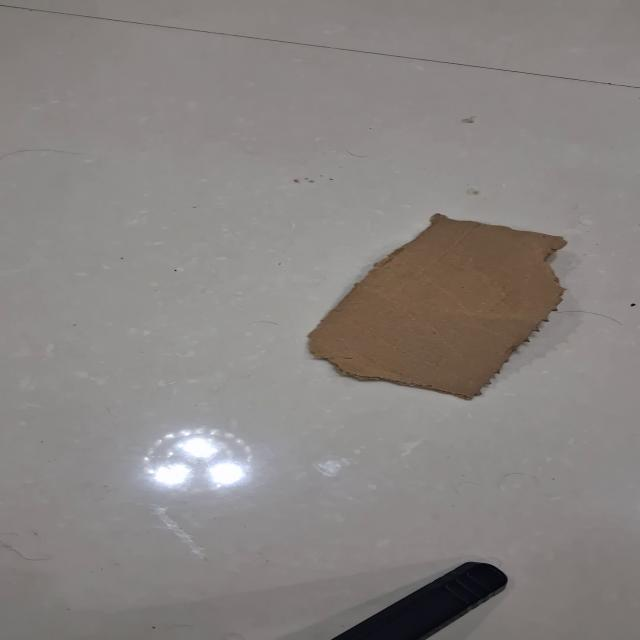paper: (2, 1, 638, 639), (304, 212, 569, 400)
